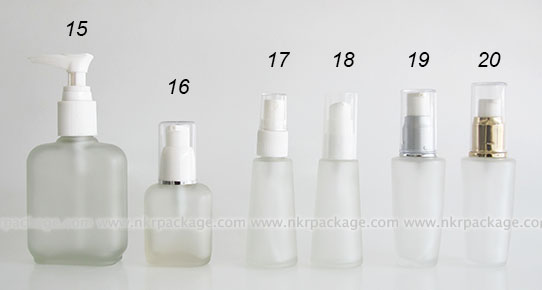glass_bottle: (19, 48, 133, 269), (134, 116, 224, 274), (452, 76, 520, 274), (307, 84, 370, 273), (240, 87, 303, 273), (386, 84, 447, 269)
